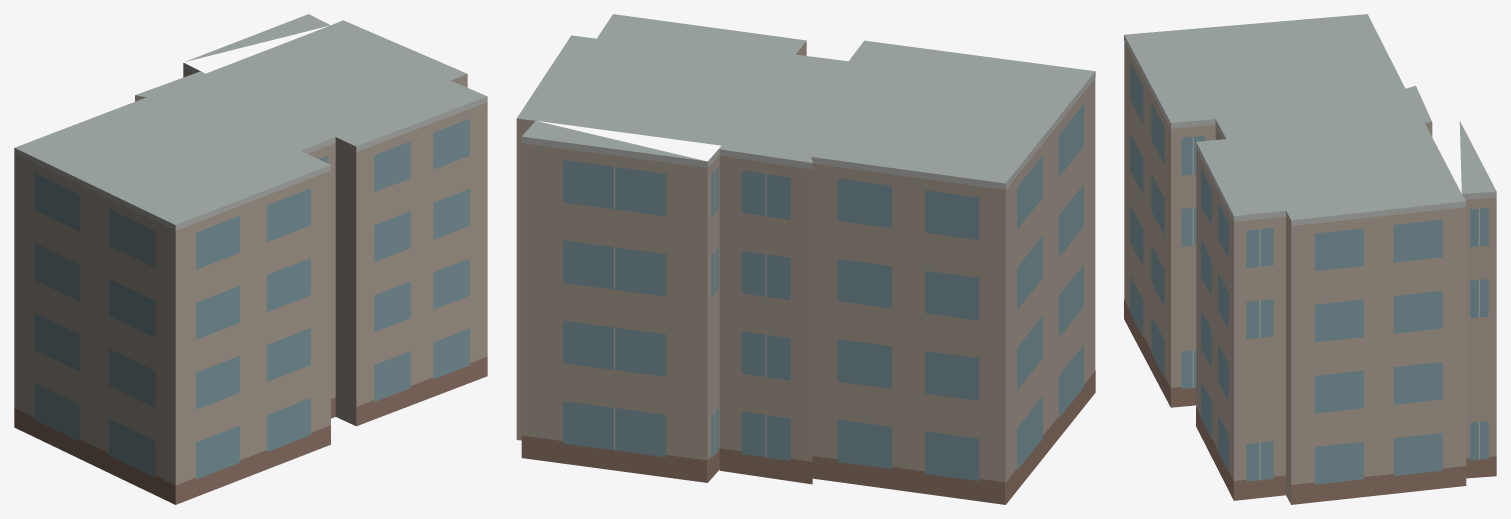
Rendered from survey-upis-32625373.glb.
3 renders of one model, left to right at view 1: azimuth 30°, elevation 25°; view 2: azimuth 150°, elevation 25°; view 3: azimuth 270°, elevation 25°, orthographic. The views are drawn at different scales.
Parts seen in each view (by area): view 1: survey-upis-32625373.tmp; view 2: survey-upis-32625373.tmp; view 3: survey-upis-32625373.tmp.
Part boxes in pixels (x1=…): survey-upis-32625373.tmp: x1=14, y1=14, x2=487, y2=504; survey-upis-32625373.tmp: x1=516, y1=14, x2=1095, y2=504; survey-upis-32625373.tmp: x1=1124, y1=14, x2=1496, y2=504.
Bounding box in the file's own units: 18.83 × 12.1 × 14.37.
